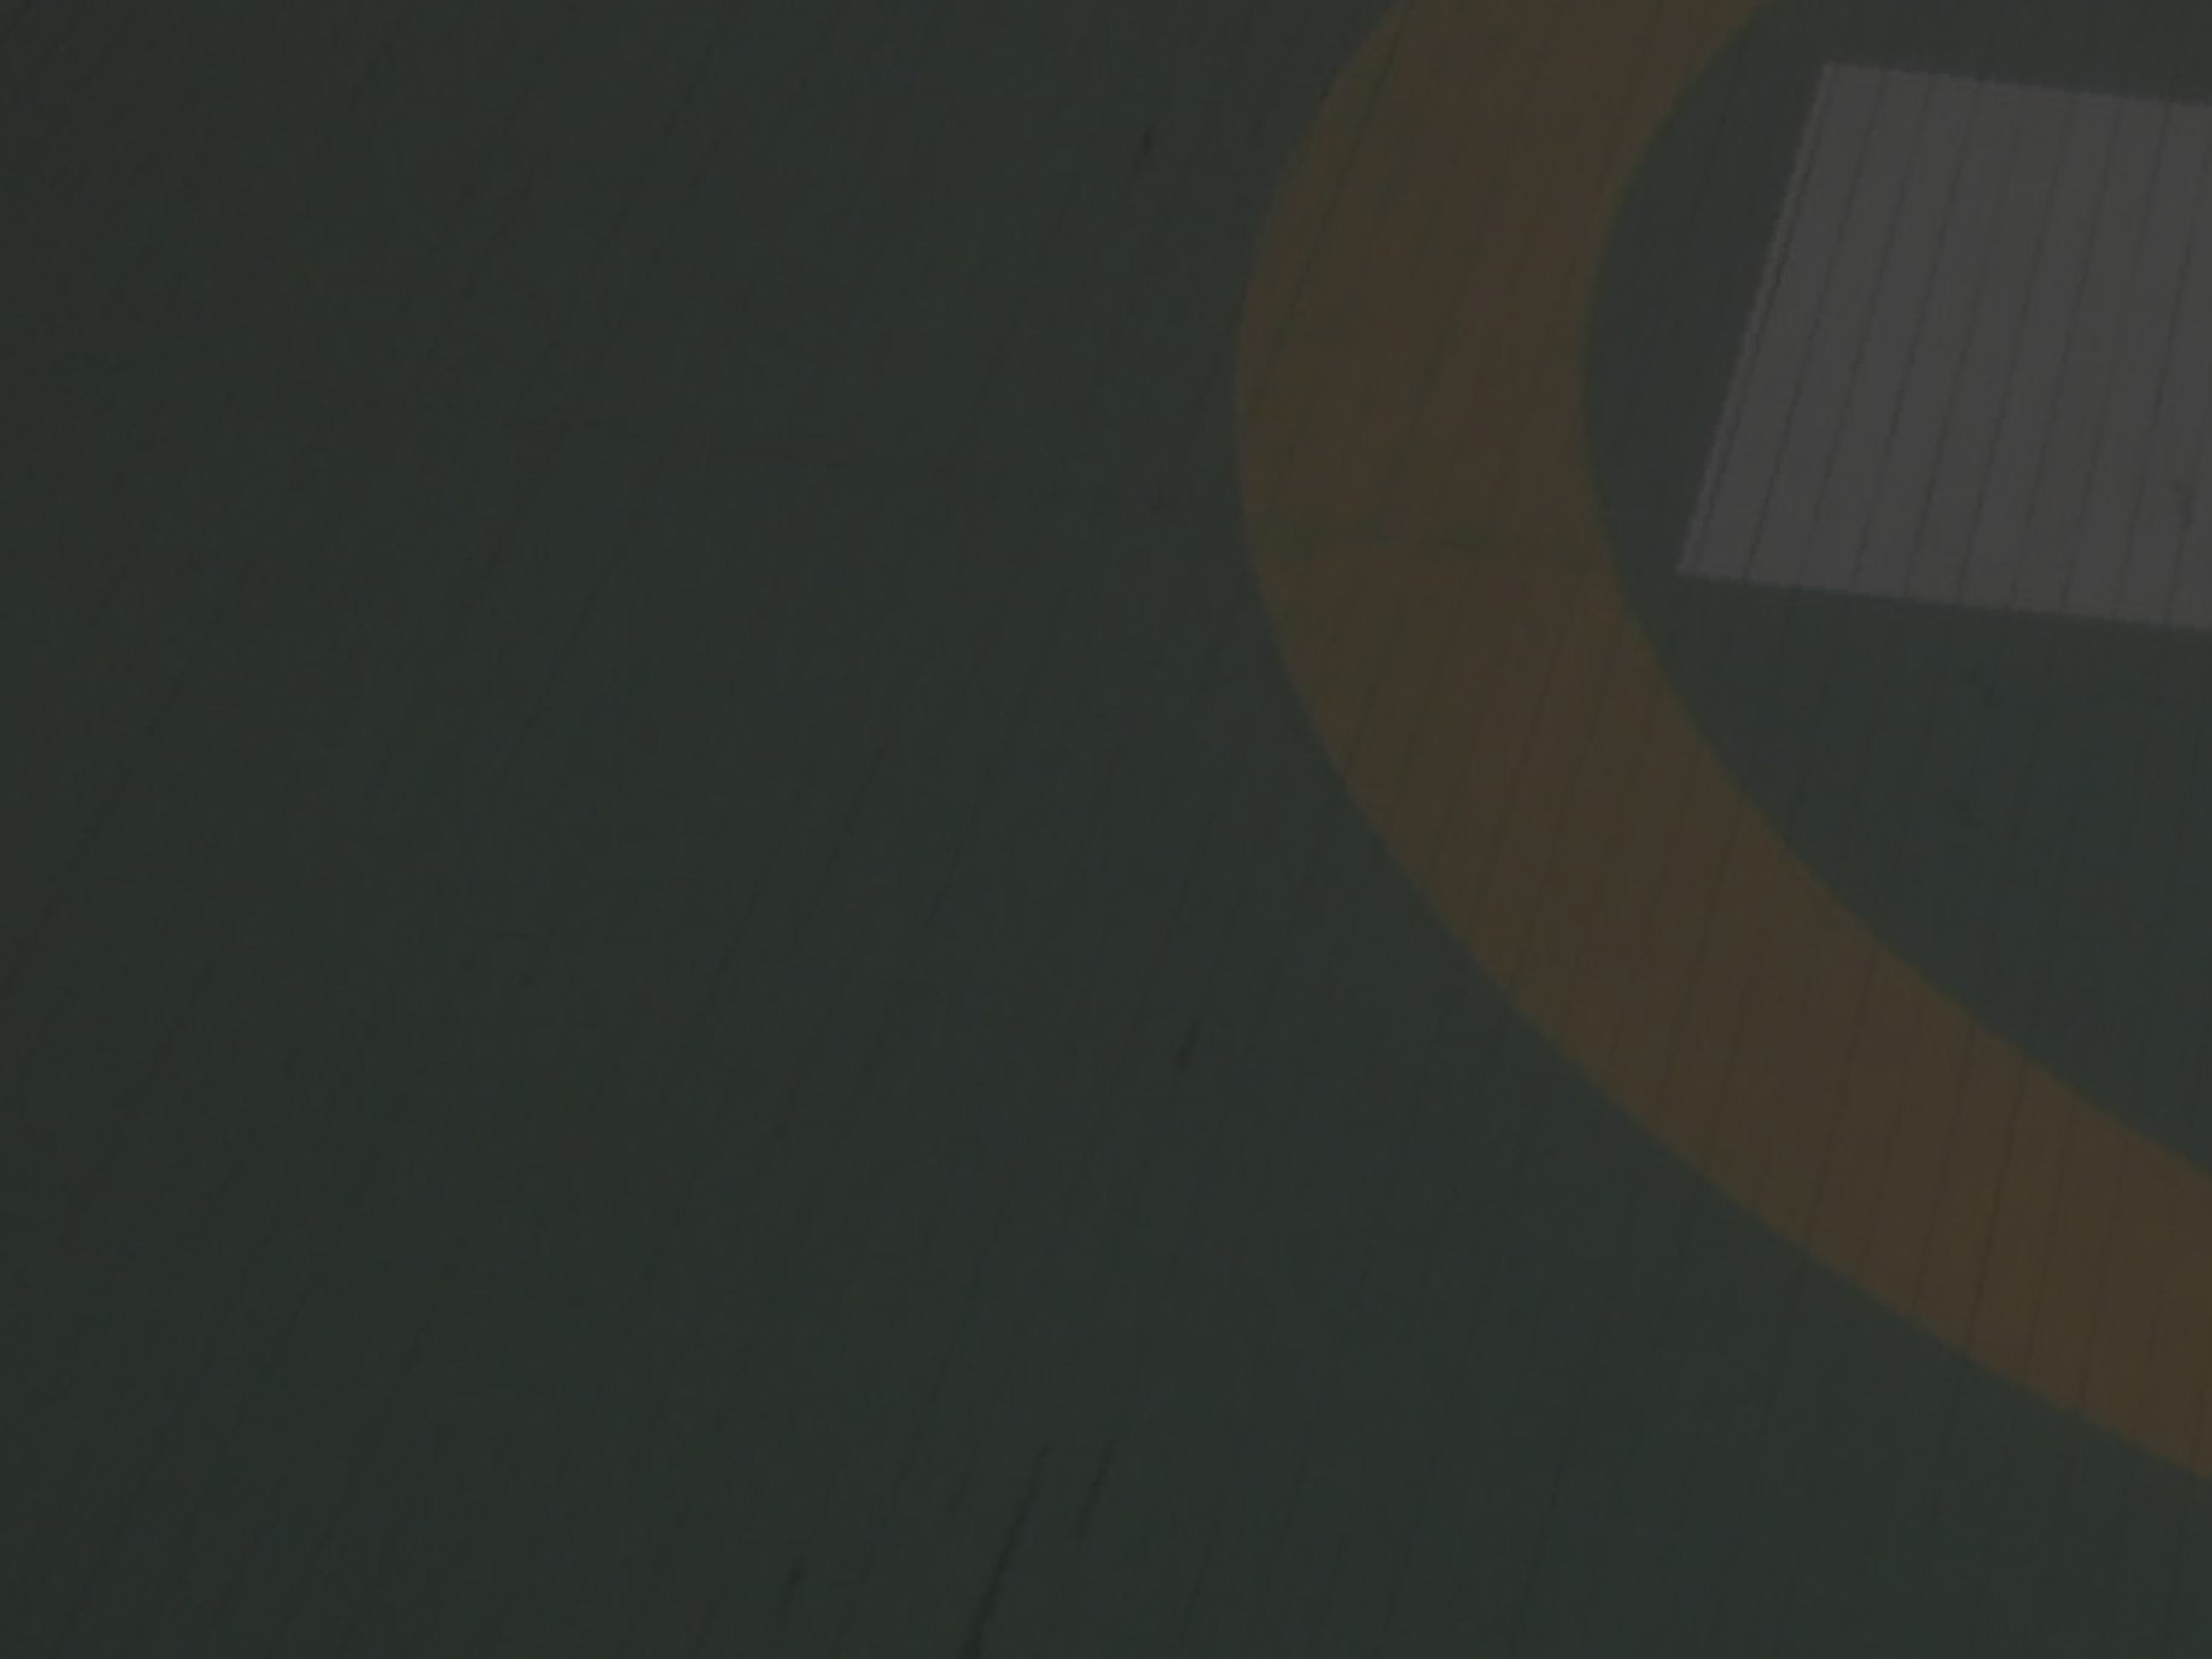Apron: (1137, 7, 2209, 1567)
